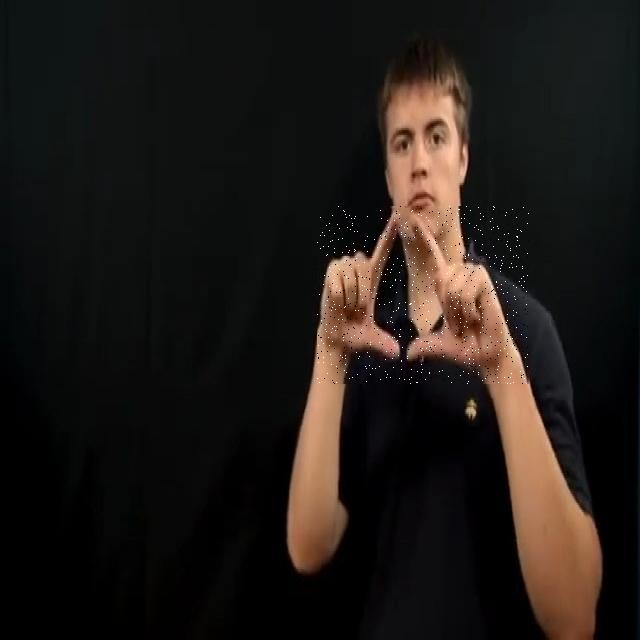bill: (318, 206, 530, 384)
